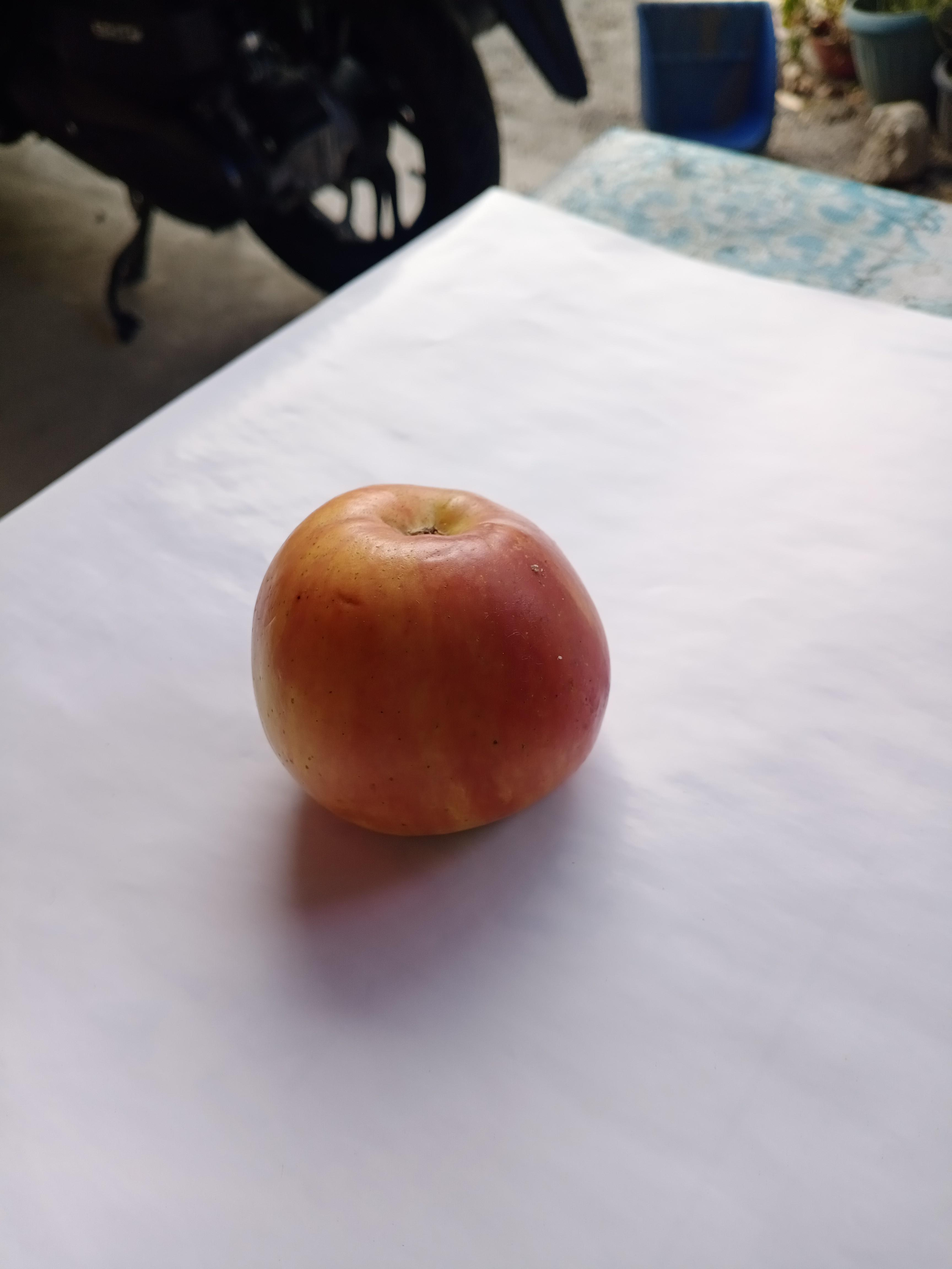Apple Ripe: (231, 449, 647, 870)
